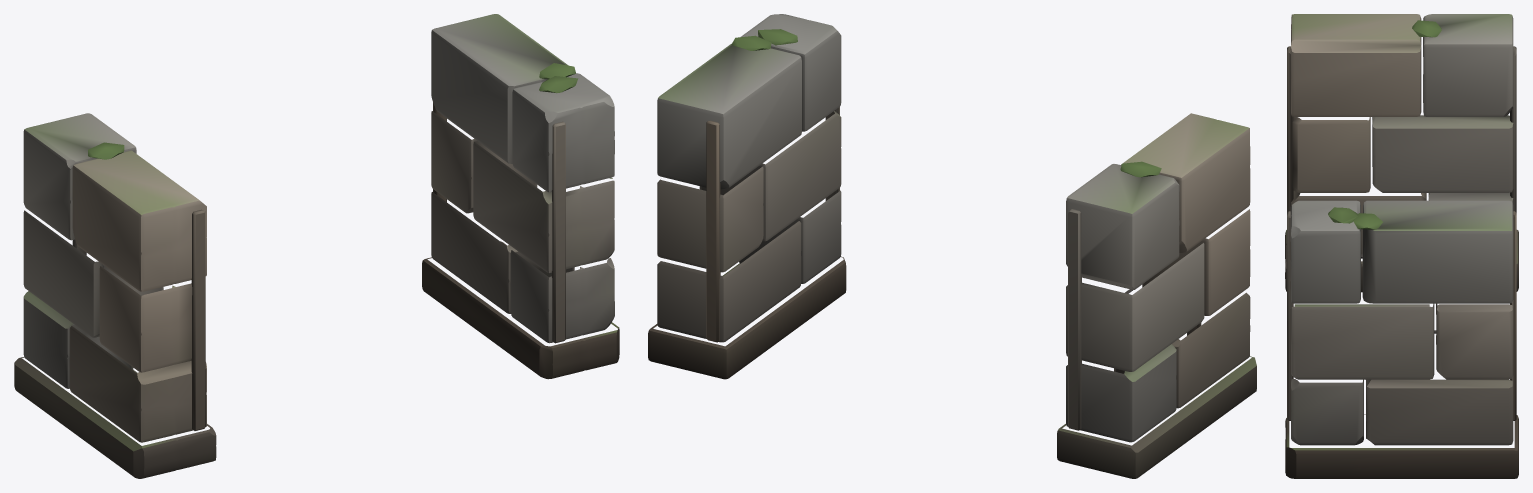
The model's file is ruins-doorframe-v1.glb.
3 views of the same model, side by side, from view 1: azimuth 30°, elevation 25°; view 2: azimuth 150°, elevation 25°; view 3: azimuth 270°, elevation 25° (orthographic). The views are drawn at different scales.
Visible parts, largest first — view 1: 0_ruins_doorframe; view 2: 0_ruins_doorframe; view 3: 0_ruins_doorframe.
Part boxes in pixels (<box>): 0_ruins_doorframe: <box>14,14,619,478</box>; 0_ruins_doorframe: <box>648,14,1256,478</box>; 0_ruins_doorframe: <box>1285,14,1518,478</box>.
Size of the model in its own units: 4.74 by 2.48 by 2.1.
